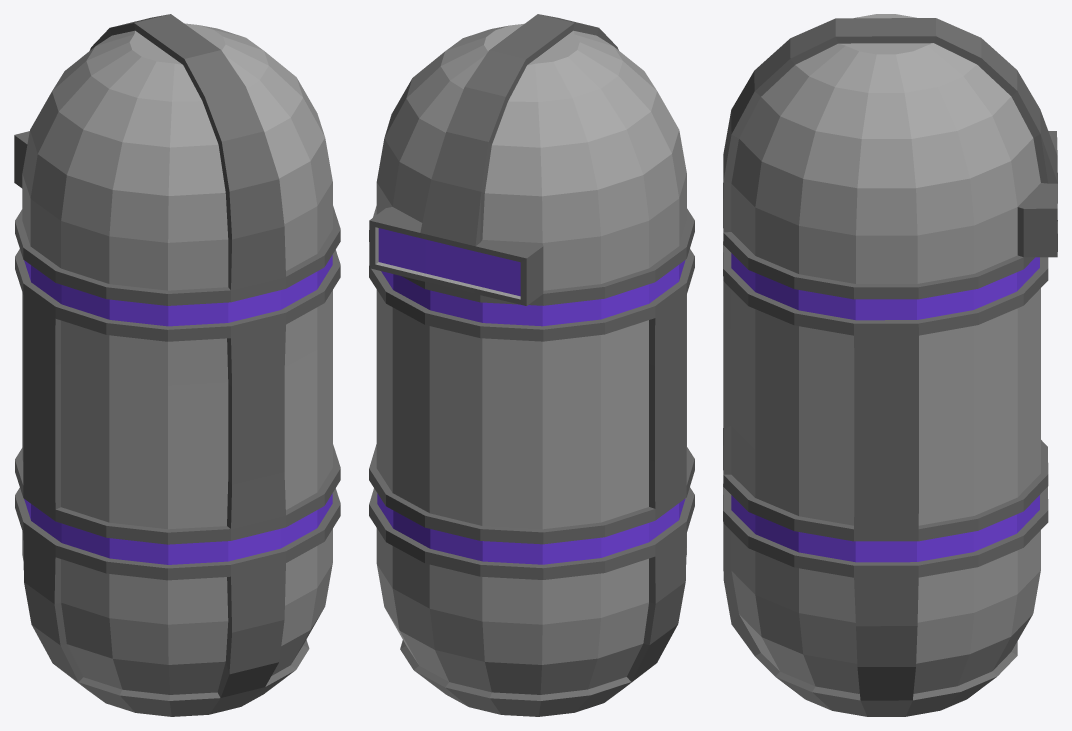
Rendered from PlayerModel.fbx.
The picture shows the model from 3 angles, left to right: view 1: azimuth 30°, elevation 25°; view 2: azimuth 150°, elevation 25°; view 3: azimuth 270°, elevation 25°; orthographic projection.
Visible parts, largest first — view 1: Player; view 2: Player; view 3: Player.
Part boxes in pixels (x1=…): Player: x1=14, y1=14, x2=340, y2=716; Player: x1=369, y1=14, x2=694, y2=716; Player: x1=723, y1=14, x2=1057, y2=716.
Bounding box in the file's own units: 103 × 233 × 106.
